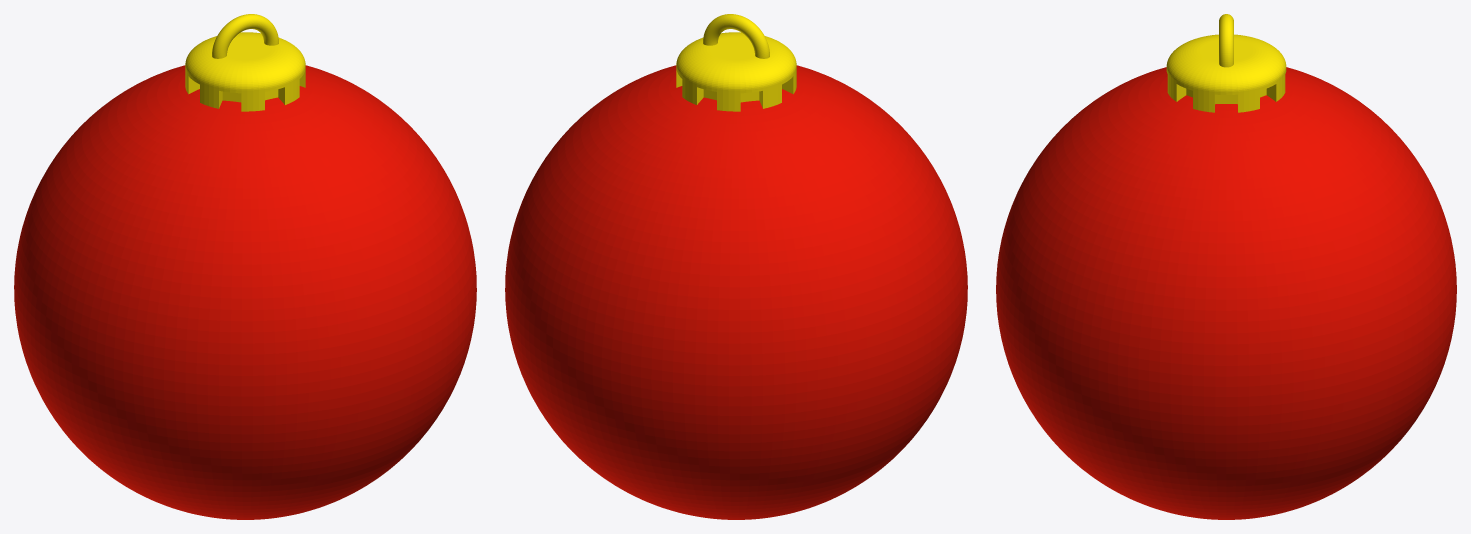
File: Шарик на ёлку (красный) .fbx
The picture shows the model from 3 angles, left to right: view 1: azimuth 30°, elevation 25°; view 2: azimuth 150°, elevation 25°; view 3: azimuth 270°, elevation 25°; orthographic projection.
Visible parts, largest first — view 1: Sphere; view 2: Sphere; view 3: Sphere.
Part boxes in pixels (x1,y1,x2,y2): Sphere: [14, 14, 476, 519]; Sphere: [505, 14, 967, 519]; Sphere: [996, 14, 1456, 519].
Size of the model in its own units: 200 by 230 by 200.
